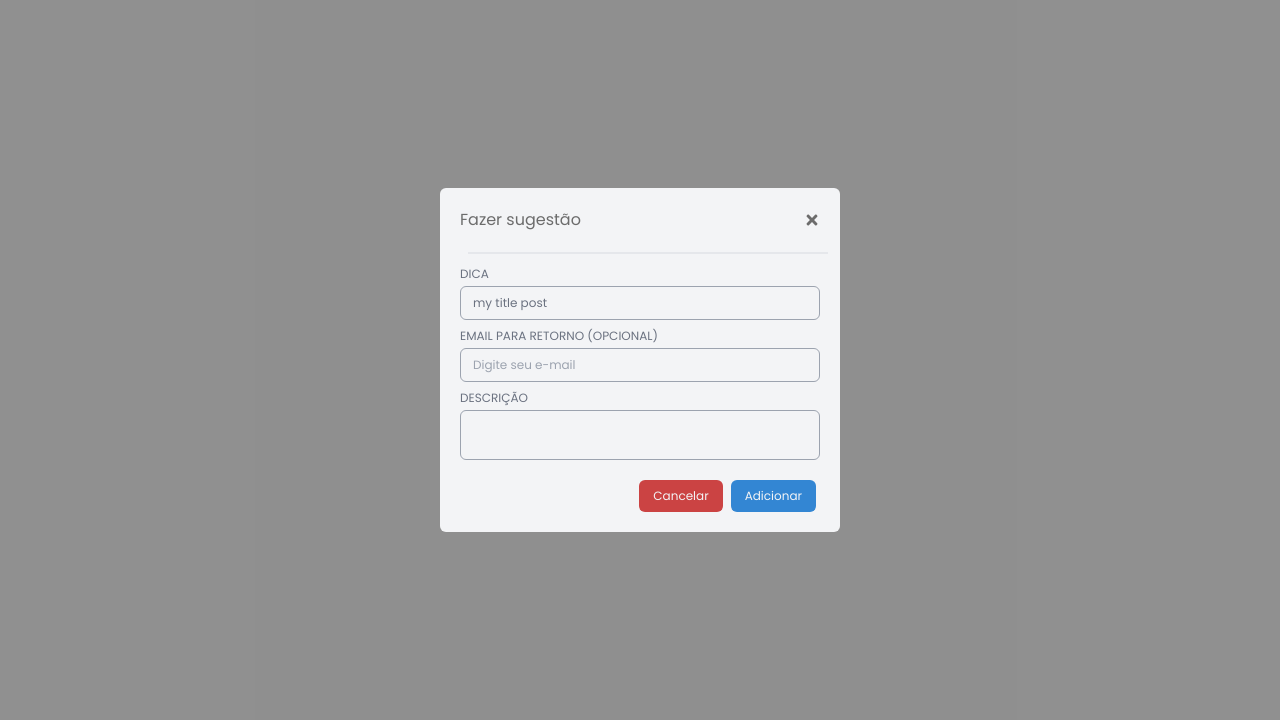
Test: <ModalOfSuggestion /> › should render modal suggestion and error to send suggestion
The width and height of the screenshot is (1280, 720).
In the field labelled "Email para retorno (Opcional)": (640, 365) [460,348,820,382], type "invalidEmailApi@email.com"
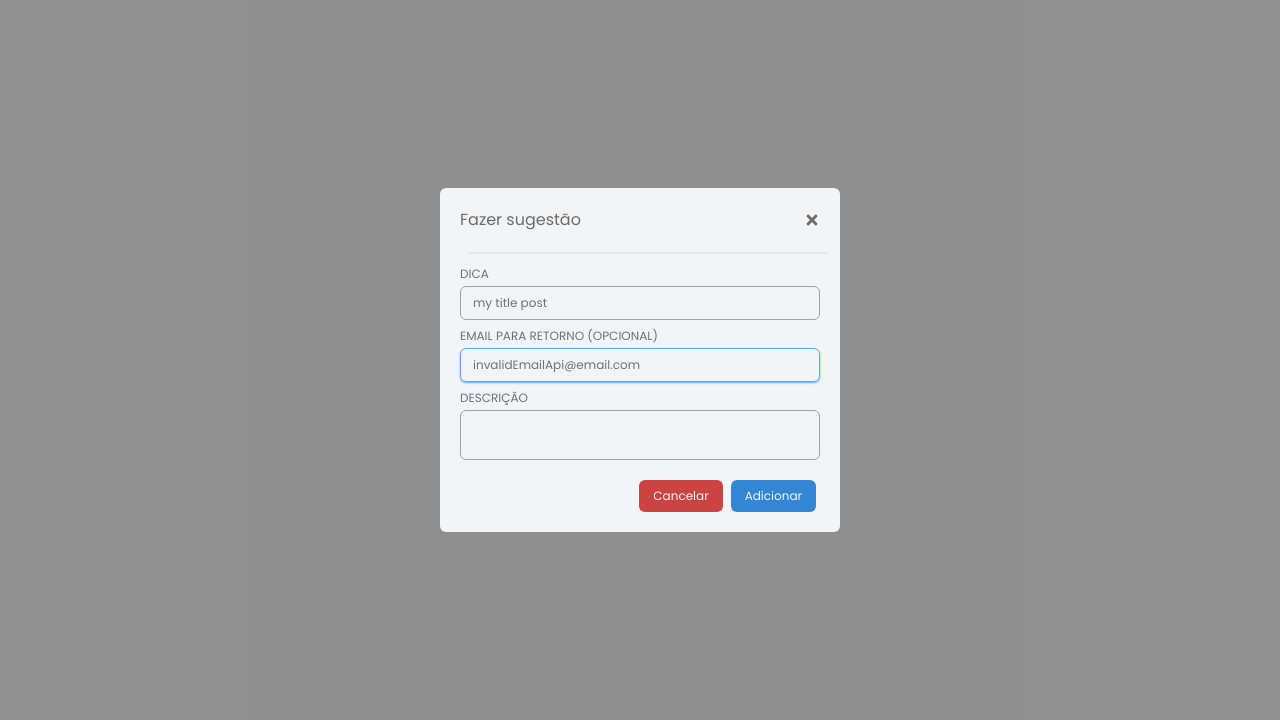
In the text box labelled "Descrição": (640, 435) [460,410,820,460], type "my long description for problem"
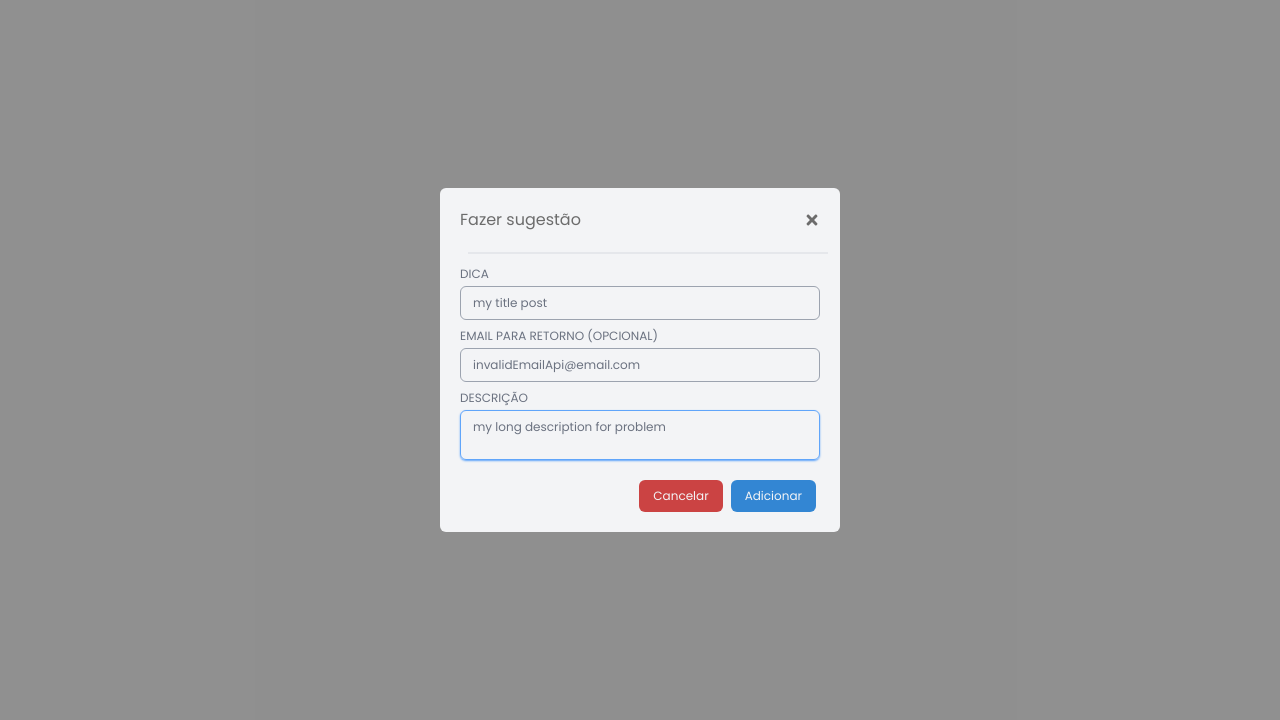
Click the button "Adicionar": (773, 496) [731,480,816,512]
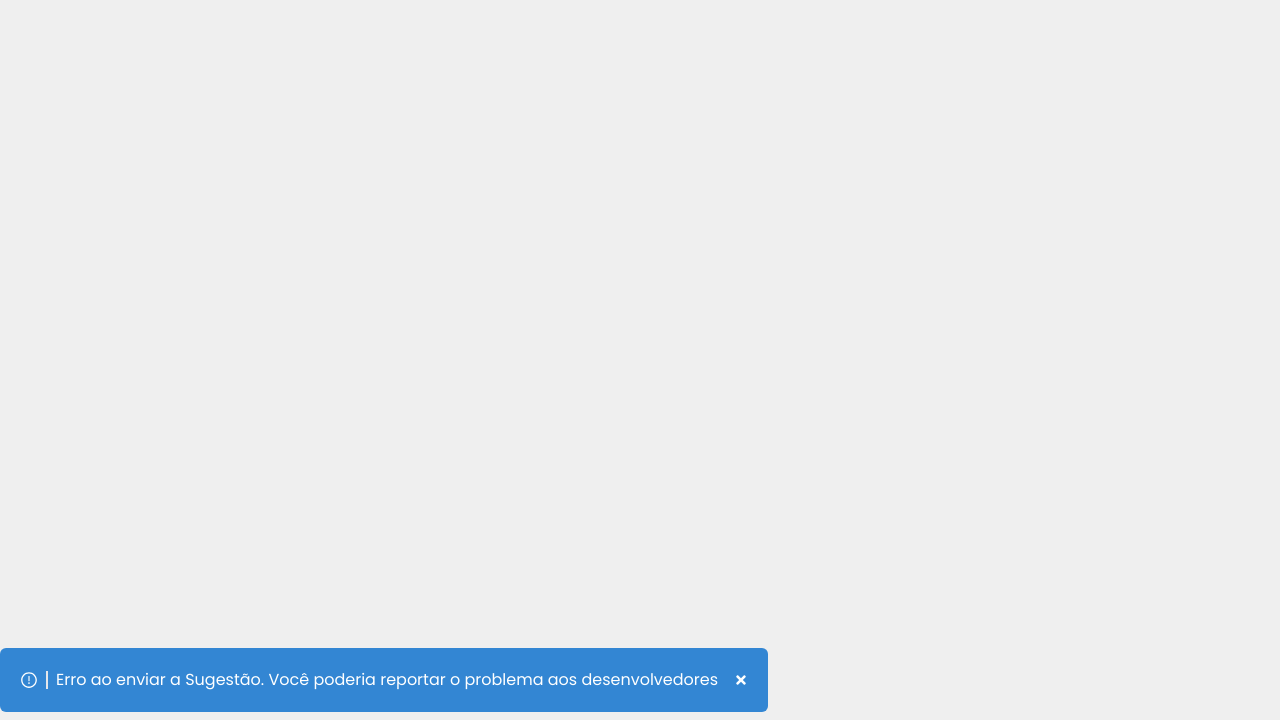
Result: the text "Erro ao enviar a Sugestão. Você poderia reportar o problema aos desenvolvedores" is shown at [56,668,718,692]
